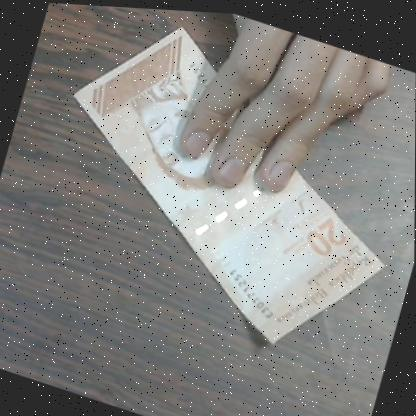twenty-front-vef: (12, 1, 416, 374)
